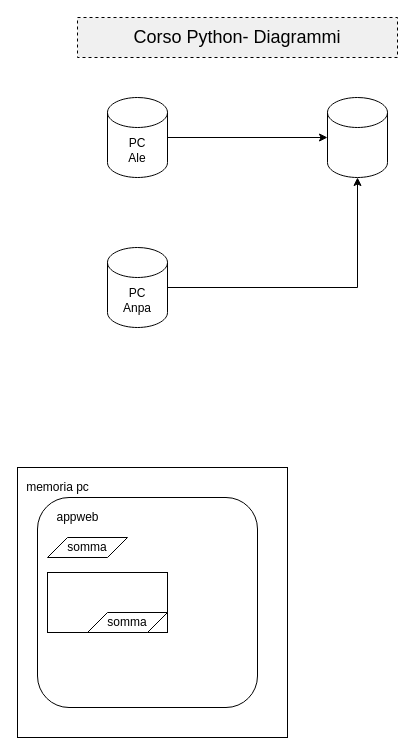
Some shapes in this 415 by 755 pixel diagram are drawn without their labels. The shapes that lost their labels are listed below. From the top down, each one's box as (x1, y1, x2, y2) in pixels, then its label:
(326, 96, 388, 178): GitHub origin
(46, 572, 168, 632): def hello_world
